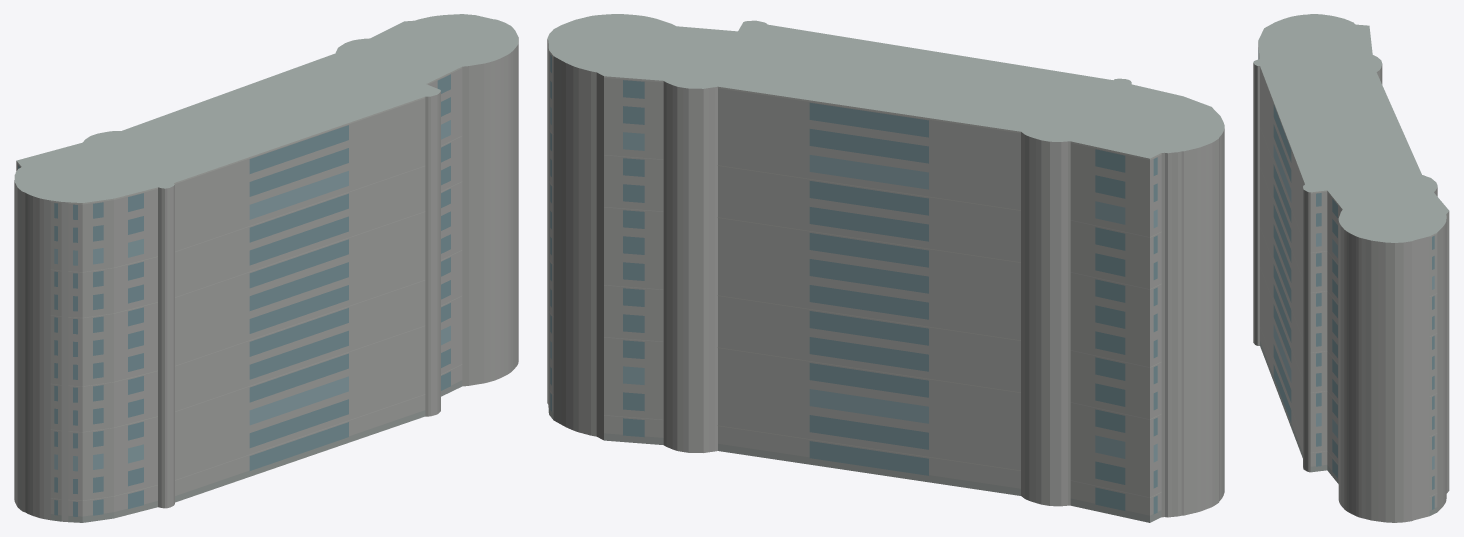
File: survey-upis-32634090.glb
3 renders of one model, left to right at view 1: azimuth 30°, elevation 25°; view 2: azimuth 150°, elevation 25°; view 3: azimuth 270°, elevation 25°, orthographic. The views are drawn at different scales.
Parts seen in each view (by area): view 1: survey-upis-32634090.tmp; view 2: survey-upis-32634090.tmp; view 3: survey-upis-32634090.tmp.
Part boxes in pixels (left/top/right/bottom): survey-upis-32634090.tmp: left=14, top=14, right=518, bottom=522; survey-upis-32634090.tmp: left=547, top=14, right=1224, bottom=522; survey-upis-32634090.tmp: left=1253, top=14, right=1449, bottom=522.
Size of the model in its own units: 95.46 by 54.4 by 34.53.
